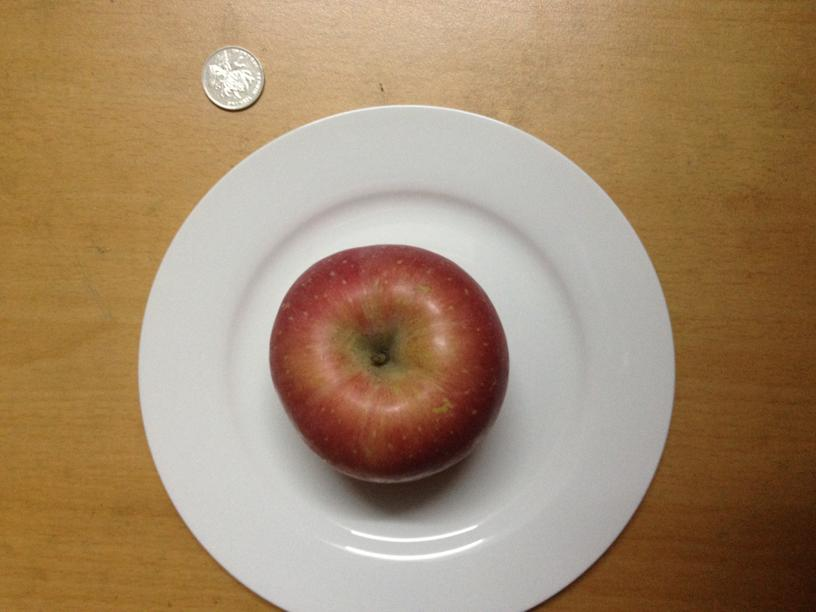apple: (269, 245, 509, 483)
coin: (199, 46, 266, 111)
